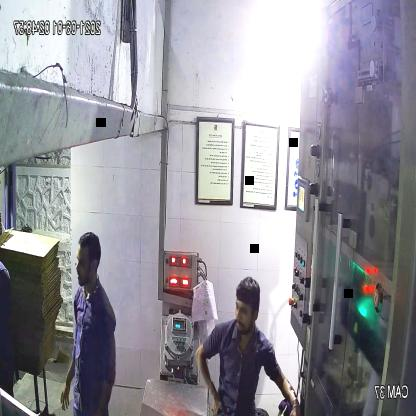no_goggles: (74, 256, 102, 276), (232, 300, 260, 320)
